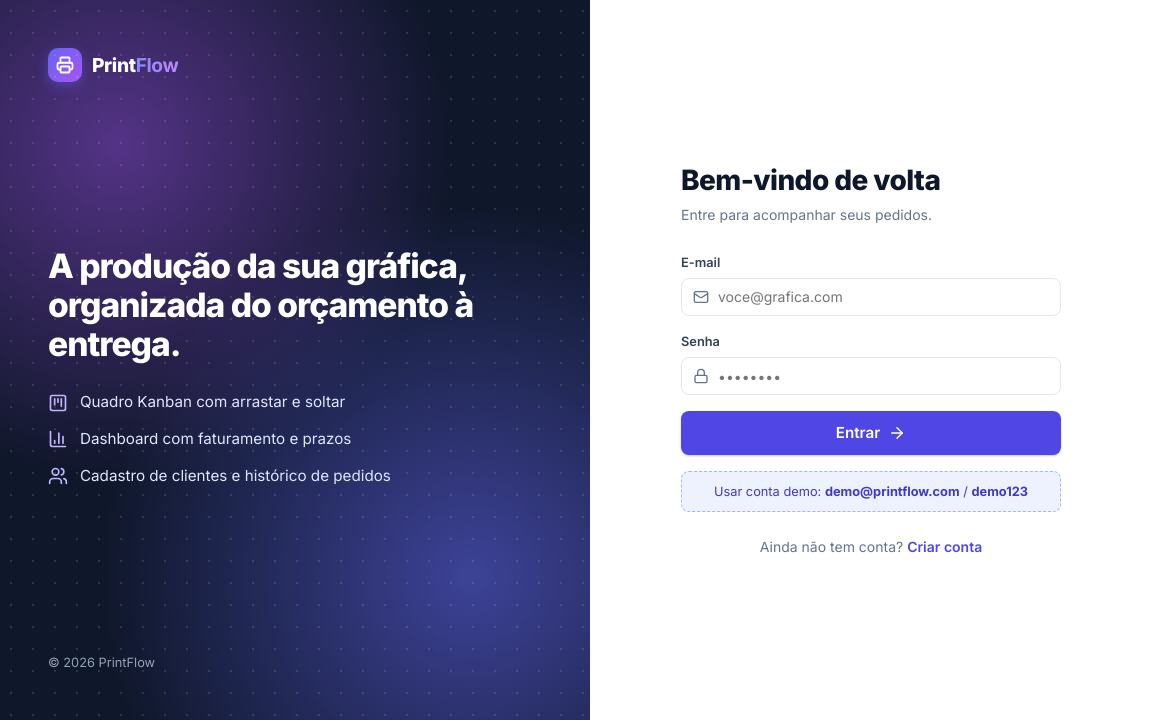
Test case: LoginPage › mostra erro retornado pela API
In the field with placeholder "voce@grafica.com": (871, 297) [681,278,1061,316], type "x@y.com"
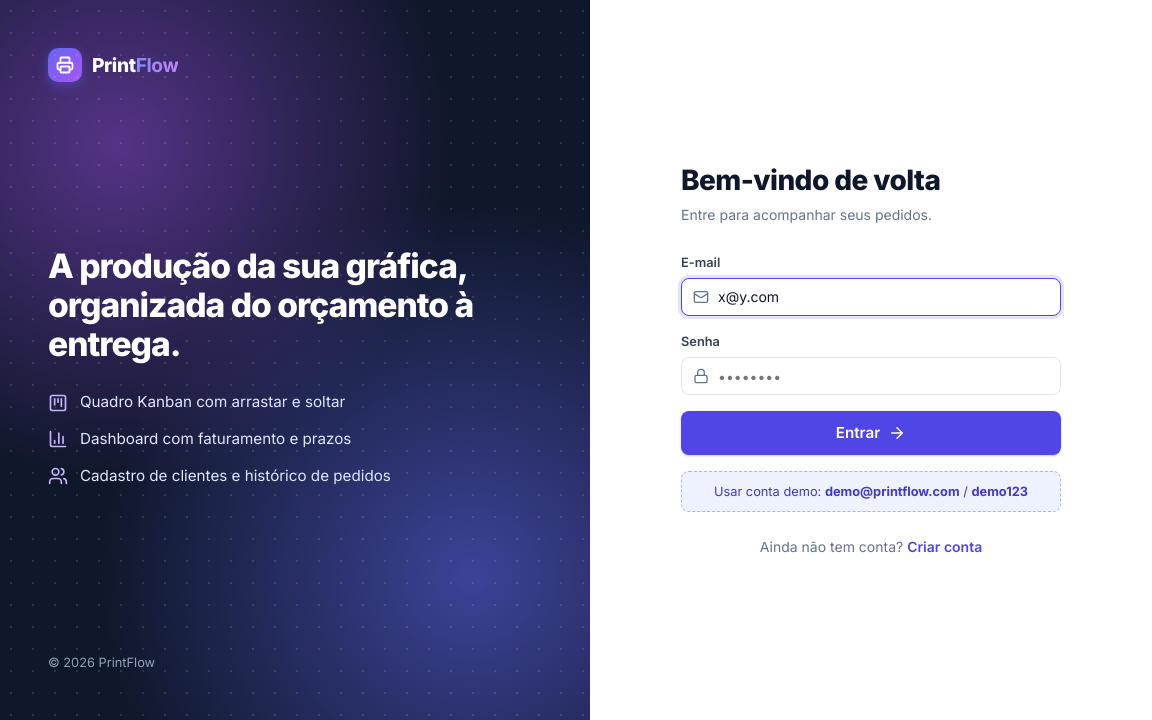
In the password field with placeholder "••••••••": (871, 376) [681,357,1061,395], type "errada"
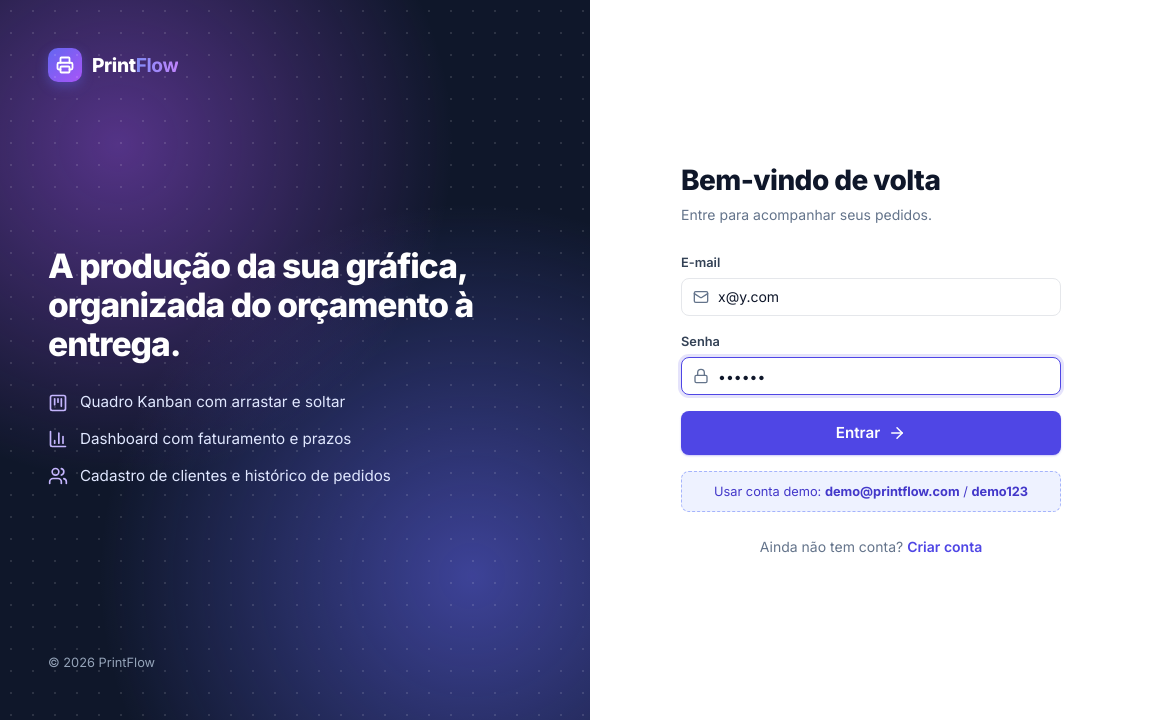
Click the button "Entrar": (871, 433) [681,411,1061,455]
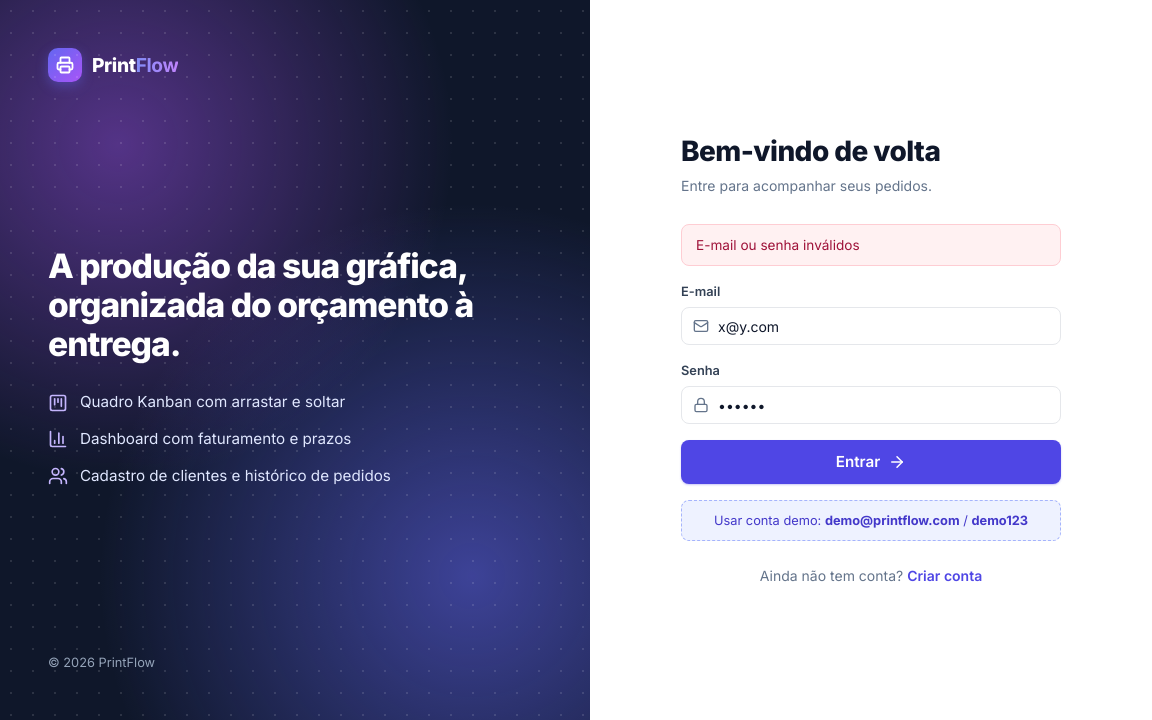
Now the message reads "E-mail ou senha inválidos", box [696,236,860,252]
